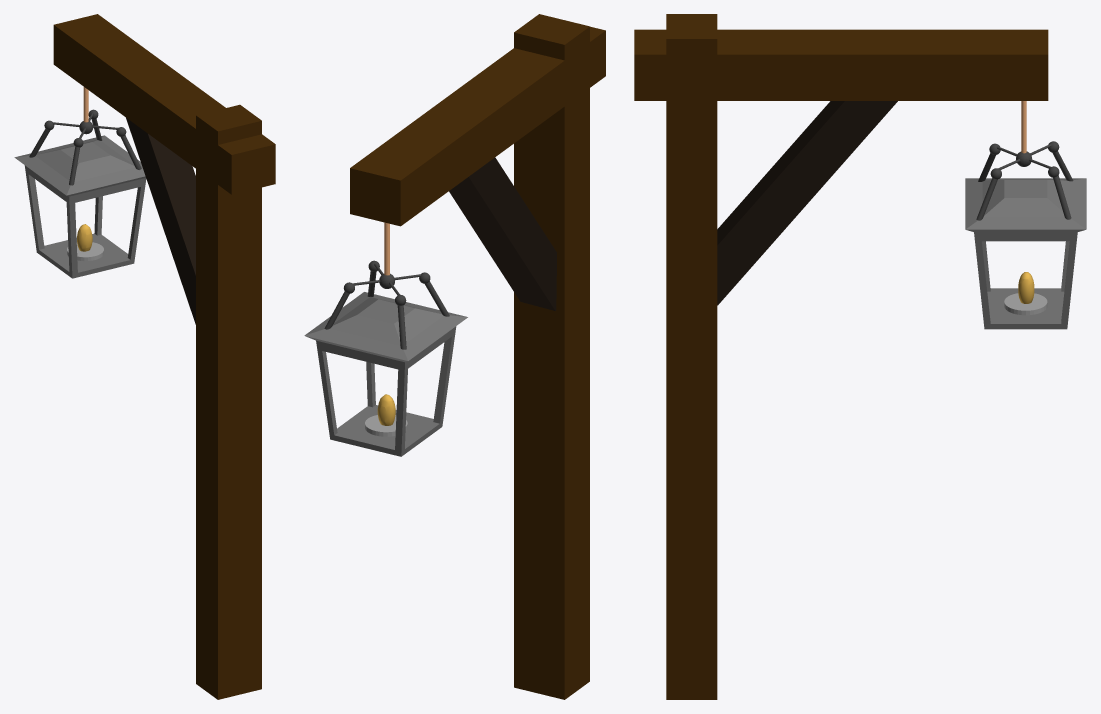
Rendered from lamparina.fbx.
3 renders of one model, left to right at view 1: azimuth 30°, elevation 25°; view 2: azimuth 150°, elevation 25°; view 3: azimuth 270°, elevation 25°, orthographic. The views are drawn at different scales.
Parts seen in each view (by area): view 1: lamparina; view 2: lamparina; view 3: lamparina.
Boxes of the visible parts, bbox=[...] form: lamparina: bbox=[14, 14, 275, 699]; lamparina: bbox=[304, 14, 605, 699]; lamparina: bbox=[634, 14, 1086, 699].
Bounding box in the file's own units: 80.1 × 481 × 298.
